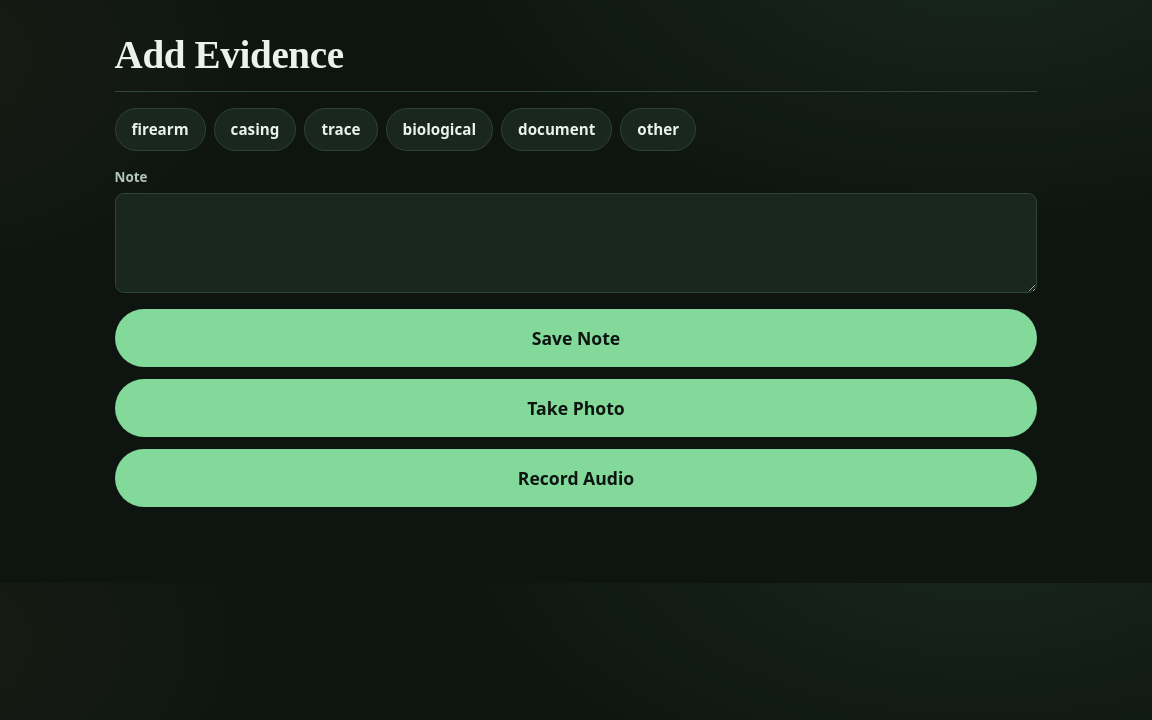
it: evidence form queue response (202) › note 202 {queued:true} shows 'queued' message
Type "field note" into the text box labelled "Note" at (576, 243), box [114,193,1037,293]
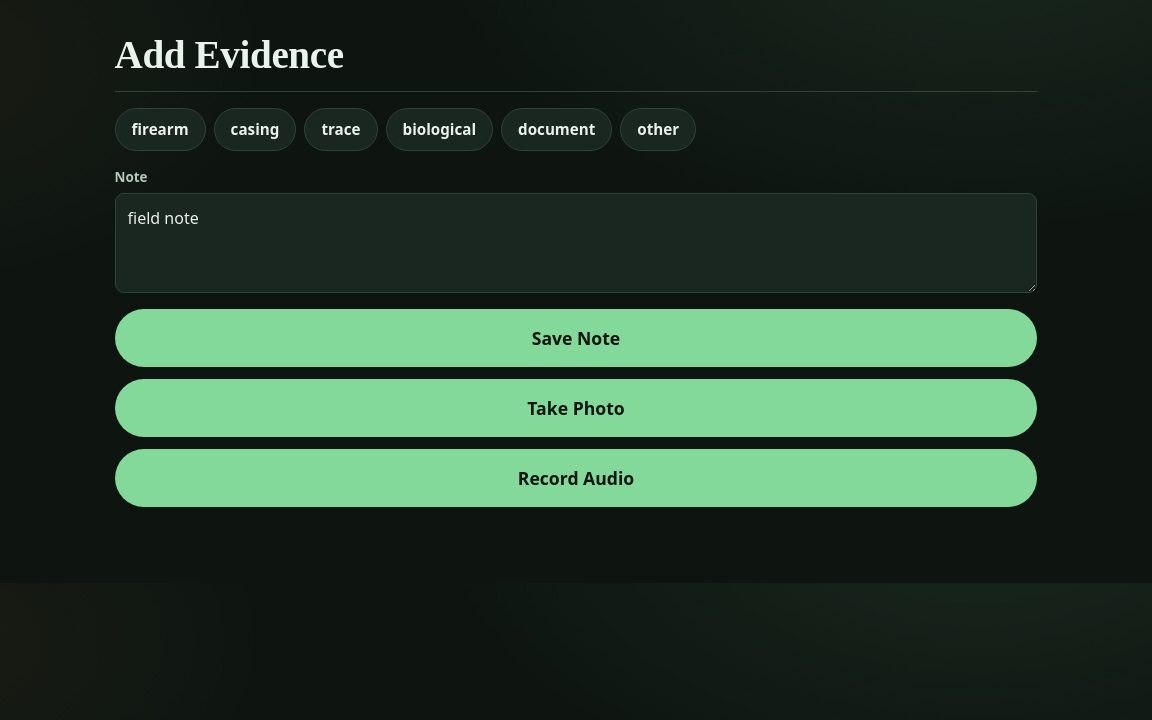
Click the button "Save Note" at (576, 338), box [114,309,1037,367]
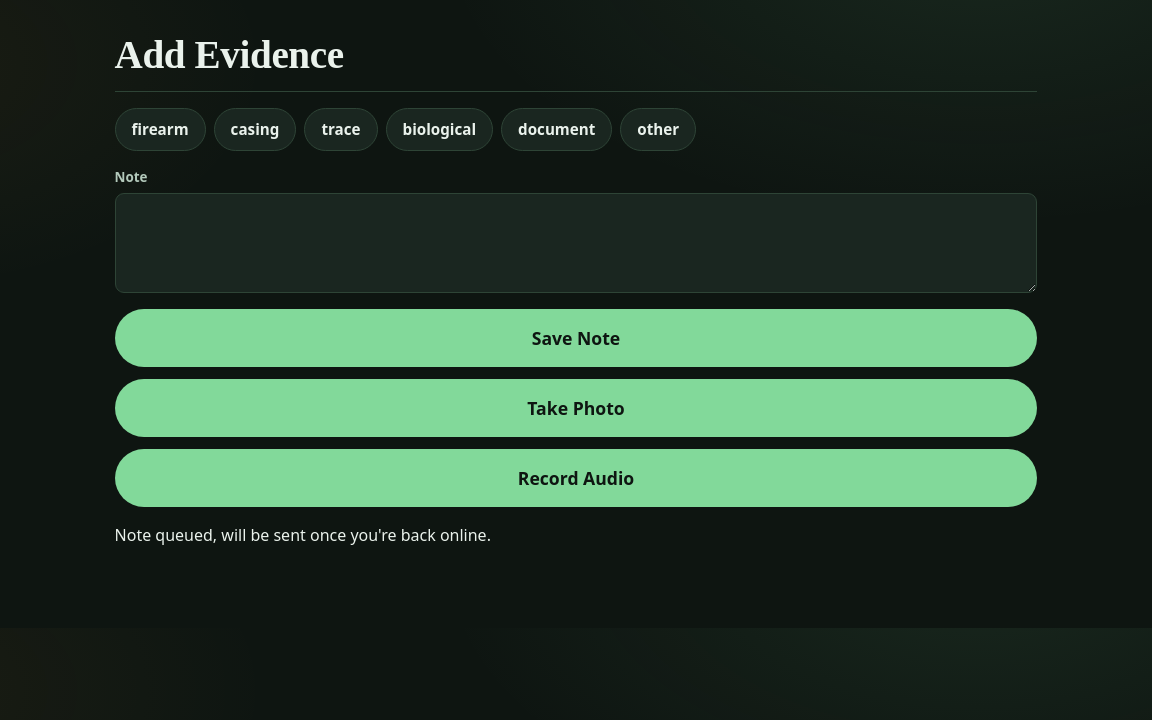
Expected: the text "Note queued, will be sent once you're back online." is shown, [114,524,491,546]
